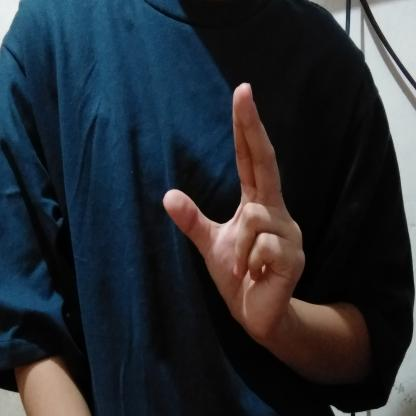who: (156, 80, 309, 352)
